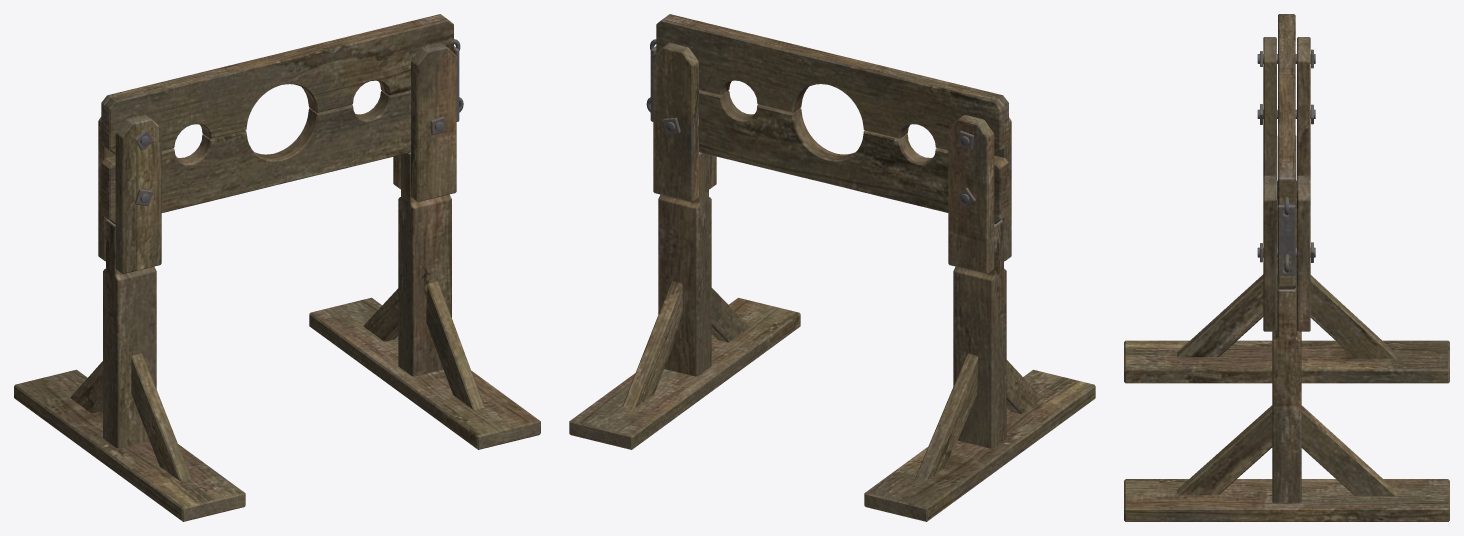
File: SM_Stocks_Game_Ready.glb
3 views of the same model, side by side, from view 1: azimuth 30°, elevation 25°; view 2: azimuth 150°, elevation 25°; view 3: azimuth 270°, elevation 25° (orthographic). The views are drawn at different scales.
Parts seen in each view (by area): view 1: SM_Stocks_Game_Ready; view 2: SM_Stocks_Game_Ready; view 3: SM_Stocks_Game_Ready.
Part boxes in pixels (left/top/right/bottom): SM_Stocks_Game_Ready: left=14, top=14, right=540, bottom=521; SM_Stocks_Game_Ready: left=569, top=14, right=1095, bottom=521; SM_Stocks_Game_Ready: left=1124, top=14, right=1449, bottom=521.
Bounding box in the file's own units: 1.69 × 1.59 × 1.35.
1 material, 1 textured.
